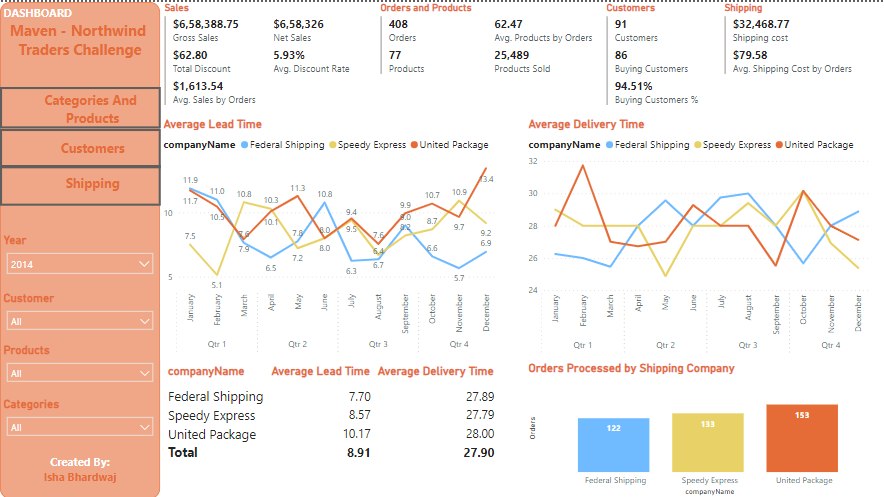

This screenshot's page, from the dashboard's own definition file:
{"tool":"powerbi","page":{"name":"Page 1","canvas":[1280,720],"ordinal":0},"visuals":[{"type":"multiRowCard","title":"Sales","fields":{"Values":["DAX.Gross Sales","DAX.Net Sales","DAX.Total Discount","DAX.Avg. Discount Rate","DAX.Avg. Sales by Orders"]},"box":[232.8,0,313.3,166.7],"z":0},{"type":"multiRowCard","title":"Orders and Products","fields":{"Values":["DAX.#Orders","DAX.Avg. Products by Orders","DAX.Products","DAX.Quantity"]},"box":[545.8,0,328.1,151.5],"z":1000},{"type":"multiRowCard","title":"Customers","fields":{"Values":["DAX.Customers","DAX.Buying Customers","DAX.Buying Customers %"]},"box":[873.8,0,172.5,166.7],"z":2000},{"type":"multiRowCard","title":"Shipping","fields":{"Values":["DAX.Shipping cost","DAX.Avg. Shipping Cost by Orders"]},"box":[1044.8,0,235.7,150.9],"z":7000},{"type":"textbox","box":[0,0,231.9,720.3],"z":8000},{"type":"slicer","title":"Year","fields":{"Values":["Calendar.Date.Variation.Date Hierarchy.Year"]},"box":[0,335.4,232.5,72.1],"z":9000},{"type":"slicer","title":"Customer","fields":{"Values":["customers.companyName"]},"box":[0,419.3,232.5,75],"z":10000},{"type":"slicer","title":"Categories","fields":{"Values":["categories.categoryName"]},"box":[0,572.3,232.5,83.9],"z":11000},{"type":"slicer","title":"Products","fields":{"Values":["products.productName"]},"box":[0,494.3,232.5,78],"z":12000},{"type":"textbox","box":[0,0,231.9,104.3],"z":13000},{"type":"textbox","box":[0,650.7,231.9,53.6],"z":14000},{"type":"lineChart","title":"Average Lead Time","fields":{"Category":["Calendar.Date.Variation.Date Hierarchy.Quarter","Calendar.Date.Variation.Date Hierarchy.Month"],"Y":["DAX.Average Lead Time"],"Series":["shippers.companyName"]},"box":[231.6,166.5,493.3,352.1],"z":22000},{"type":"lineChart","title":"Average Delivery Time","fields":{"Y":["DAX.Average Delivery Time"],"Category":["Calendar.Date.Variation.Date Hierarchy.Quarter","Calendar.Date.Variation.Date Hierarchy.Month"],"Series":["shippers.companyName"]},"box":[760.8,166.2,503.8,353],"z":23000},{"type":"pivotTable","fields":{"Rows":["shippers.companyName"],"Values":["DAX.Average Lead Time","DAX.Average Delivery Time"]},"box":[233.2,518.7,526.6,201.4],"z":24000},{"type":"columnChart","title":"Orders Processed by Shipping Company","fields":{"Category":["shippers.companyName"],"Y":["DAX.Orders"]},"box":[761.3,520.2,518.7,199.9],"z":25000},{"type":"actionButton","box":[0,123.6,232.8,60.4],"z":26000},{"type":"textbox","box":[36.5,124.1,195.6,70.1],"z":27000},{"type":"actionButton","box":[0,184,232.8,57.5],"z":28000},{"type":"textbox","box":[36.5,194.6,196.1,47.1],"z":29000},{"type":"actionButton","box":[0,235.6,232.6,59.3],"z":30000},{"type":"textbox","box":[36.5,244.8,196.1,50.2],"z":31000}]}

Visuals, with their boxes in screenshot pixels (x1, y1, x2, y2), scaled from the page's 1280x720 canvas onto the 884x497 screenshot:
"Sales" multiRowCard: box(161, 0, 377, 115)
"Orders and Products" multiRowCard: box(377, 0, 604, 105)
"Customers" multiRowCard: box(603, 0, 723, 115)
"Shipping" multiRowCard: box(722, 0, 883, 104)
textbox: box(0, 0, 160, 496)
"Year" slicer: box(0, 232, 161, 281)
"Customer" slicer: box(0, 289, 161, 341)
"Categories" slicer: box(0, 395, 161, 453)
"Products" slicer: box(0, 341, 161, 395)
textbox: box(0, 0, 160, 72)
textbox: box(0, 449, 160, 486)
"Average Lead Time" lineChart: box(160, 115, 501, 358)
"Average Delivery Time" lineChart: box(525, 115, 873, 358)
pivotTable - shippers.companyName x DAX.Average Lead Time: box(161, 358, 525, 496)
"Orders Processed by Shipping Company" columnChart: box(526, 359, 883, 496)
actionButton: box(0, 85, 161, 127)
textbox: box(25, 86, 160, 134)
actionButton: box(0, 127, 161, 167)
textbox: box(25, 134, 161, 167)
actionButton: box(0, 163, 161, 204)
textbox: box(25, 169, 161, 204)
